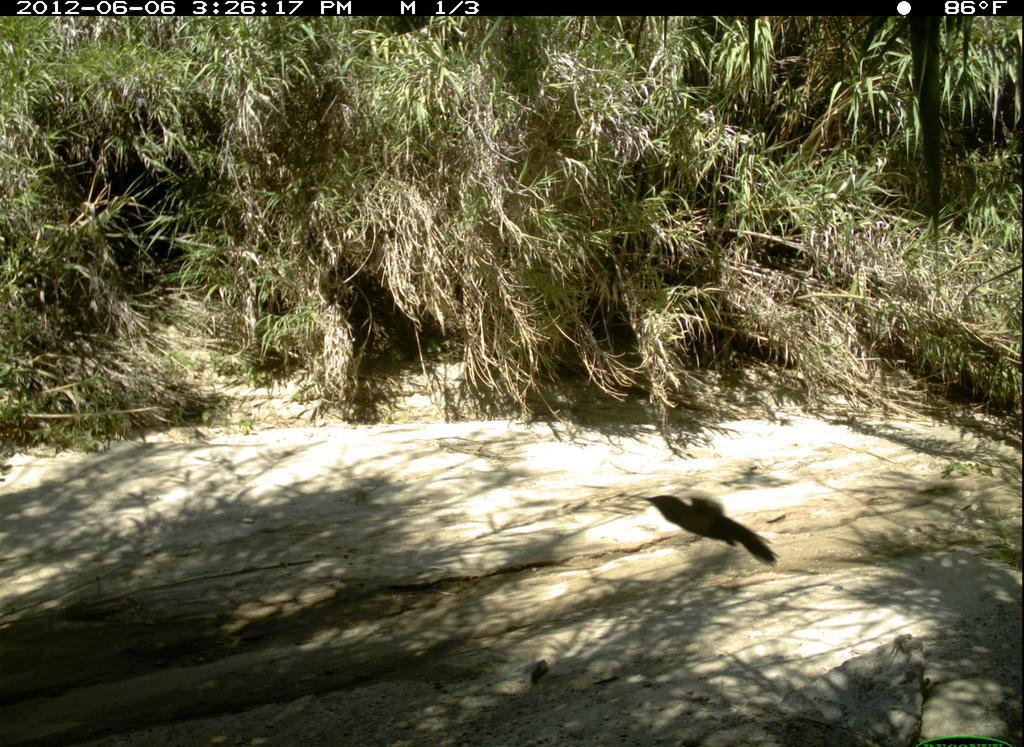bird: (617, 477, 788, 573)
